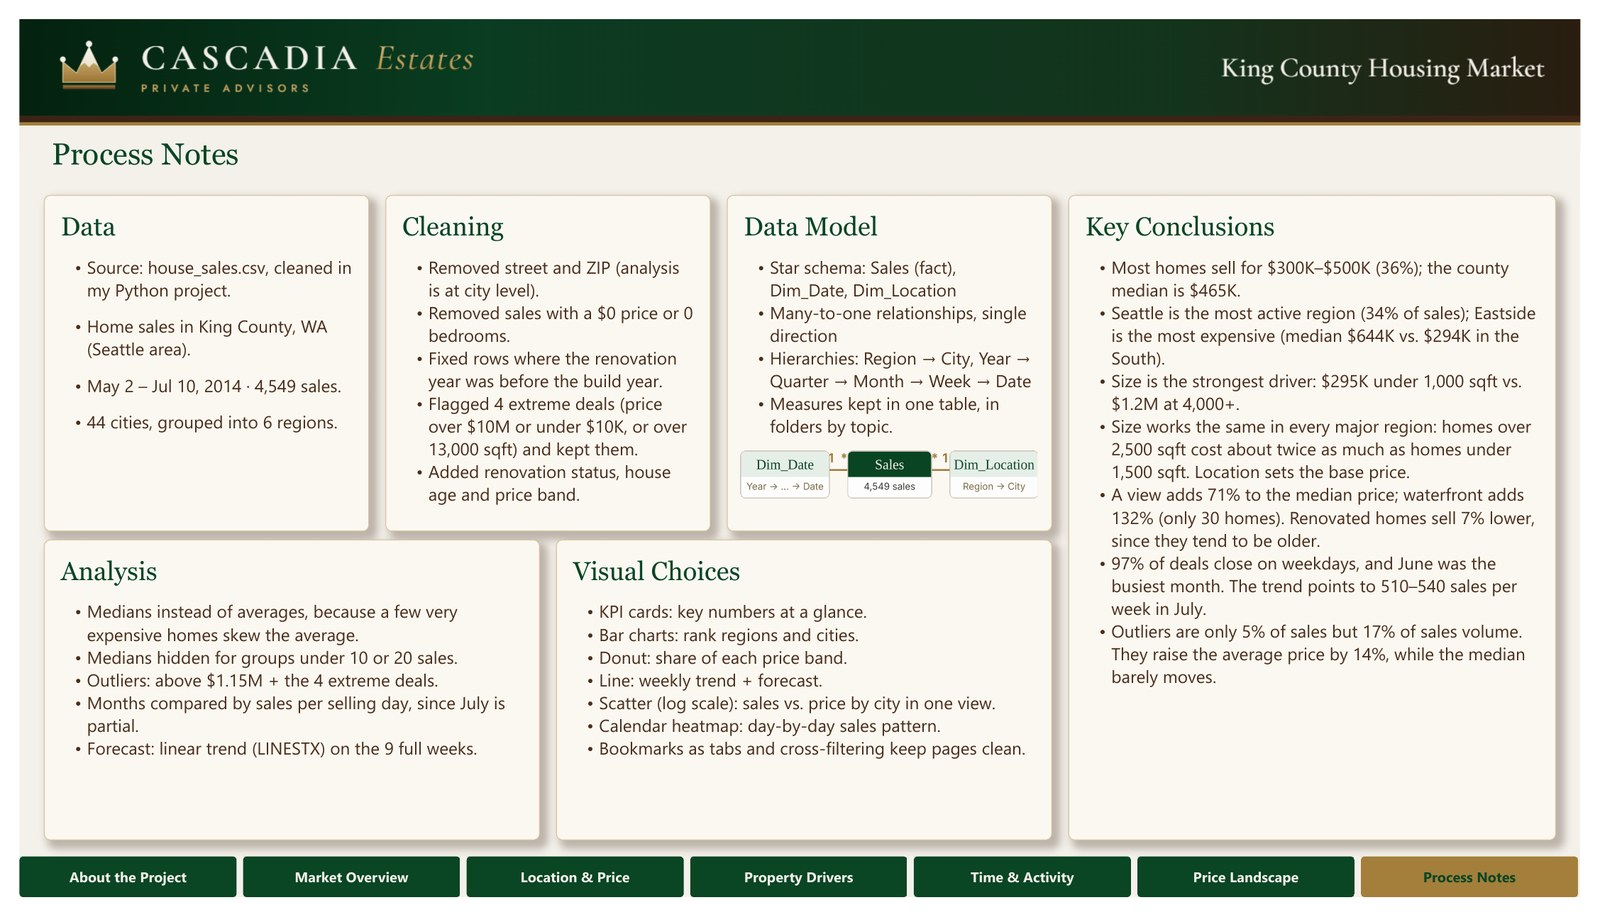

The dashboard page shown, as its layout file describes it:
{"tool":"powerbi","page":{"name":"Process Notes","canvas":[1920,1080],"ordinal":6},"visuals":[{"type":"image","box":[0,0,1920,130],"z":0},{"type":"pageNavigator","box":[0,1030,1920,50],"z":1000},{"type":"textbox","box":[30,145,375,70],"z":2000},{"type":"textbox","box":[30,215.7,400,414.3],"z":3000},{"type":"textbox","box":[450,215.7,400,414.3],"z":4000},{"type":"textbox","box":[870,215.7,400,414.3],"z":5000},{"type":"textbox","box":[30,640,610,370],"z":6000},{"type":"textbox","box":[660,640,610,370],"z":7000},{"type":"textbox","box":[1290,215.7,600,794.3],"z":8000},{"type":"image","box":[886,508,366,104],"z":8001}]}

Visuals, with their boxes in screenshot pixels (x1, y1, x2, y2), scaled from the page's 1920x1080 canvas onto the 1600x917 screenshot:
image: [0, 0, 1599, 110]
pageNavigator: [0, 875, 1599, 916]
textbox: [25, 123, 338, 183]
textbox: [25, 183, 358, 535]
textbox: [375, 183, 708, 535]
textbox: [725, 183, 1058, 535]
textbox: [25, 543, 533, 858]
textbox: [550, 543, 1058, 858]
textbox: [1075, 183, 1575, 858]
image: [738, 431, 1043, 520]
